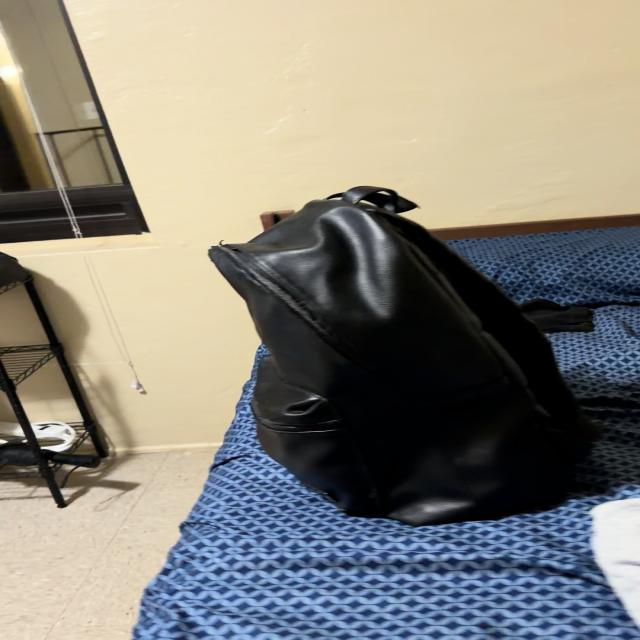backpack: (210, 186, 596, 525)
